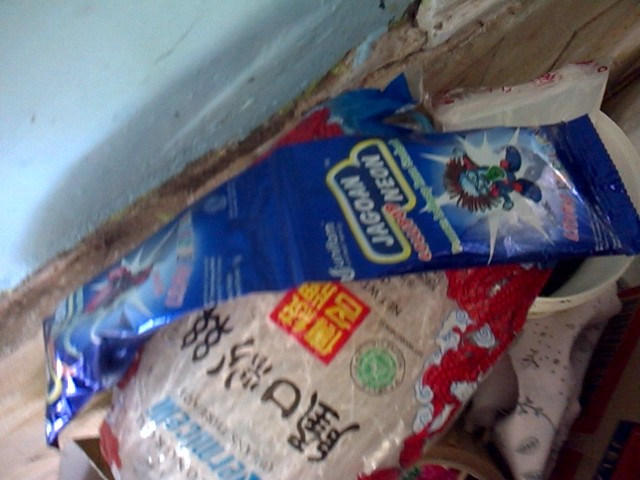jagoan neon: (263, 115, 640, 289)
